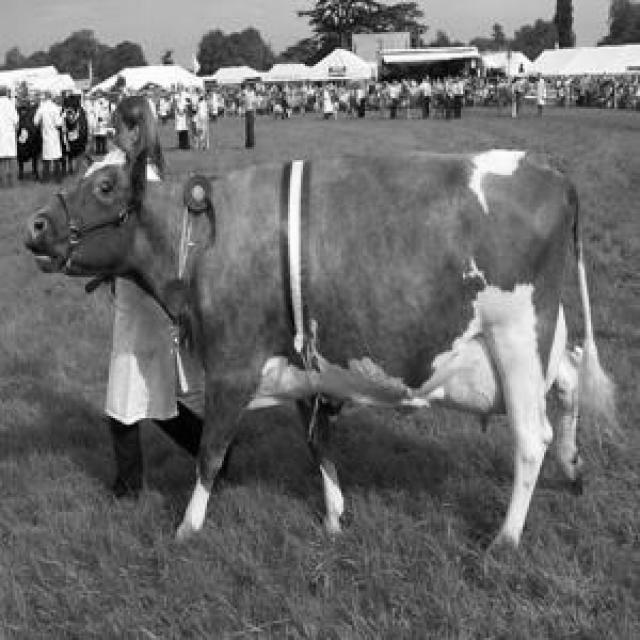cow: (26, 149, 614, 543)
